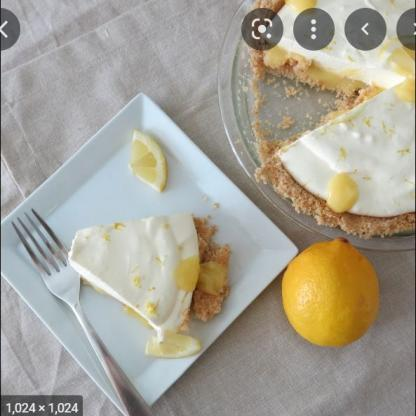lemon: (282, 236, 379, 348)
